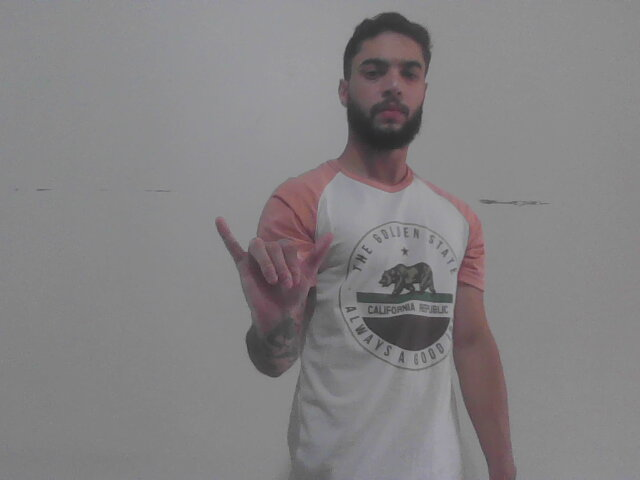y: (211, 211, 337, 326)
